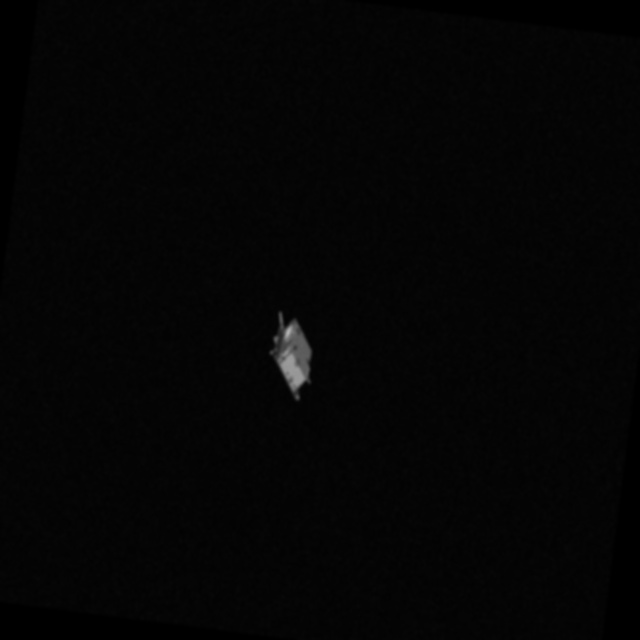satellite: (260, 306, 329, 404)
